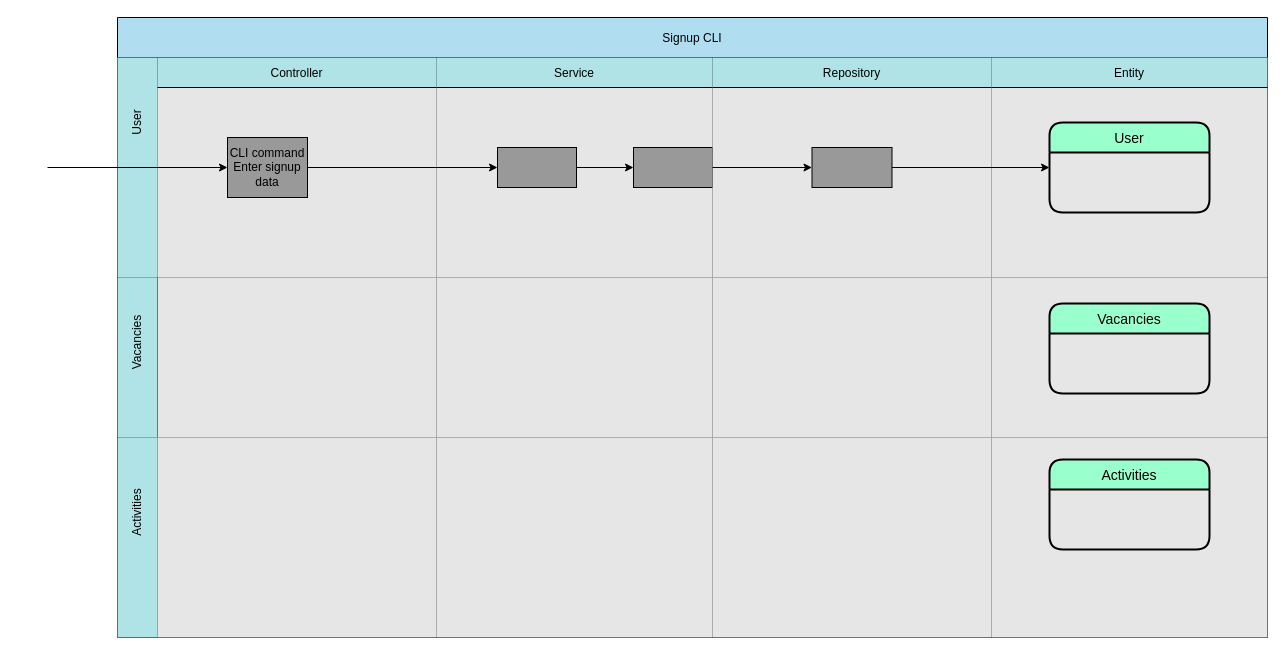
This 1285x655 diagram has some shape labels left out. Here are the shapes that lost their labels. From the top down, the centre of each, then its label:
(x=536, y=167): Validate & send data
(x=672, y=167): Add User
(x=851, y=167): Save User
